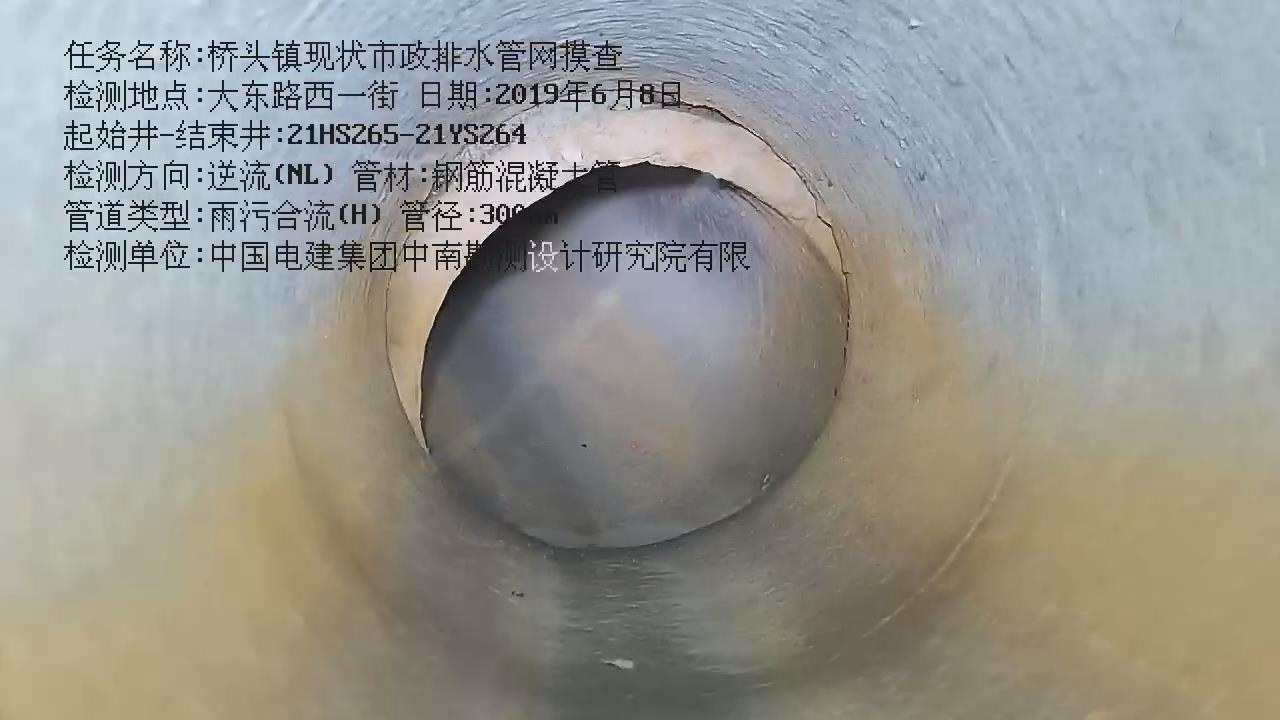CKTJ: (387, 91, 840, 445)
